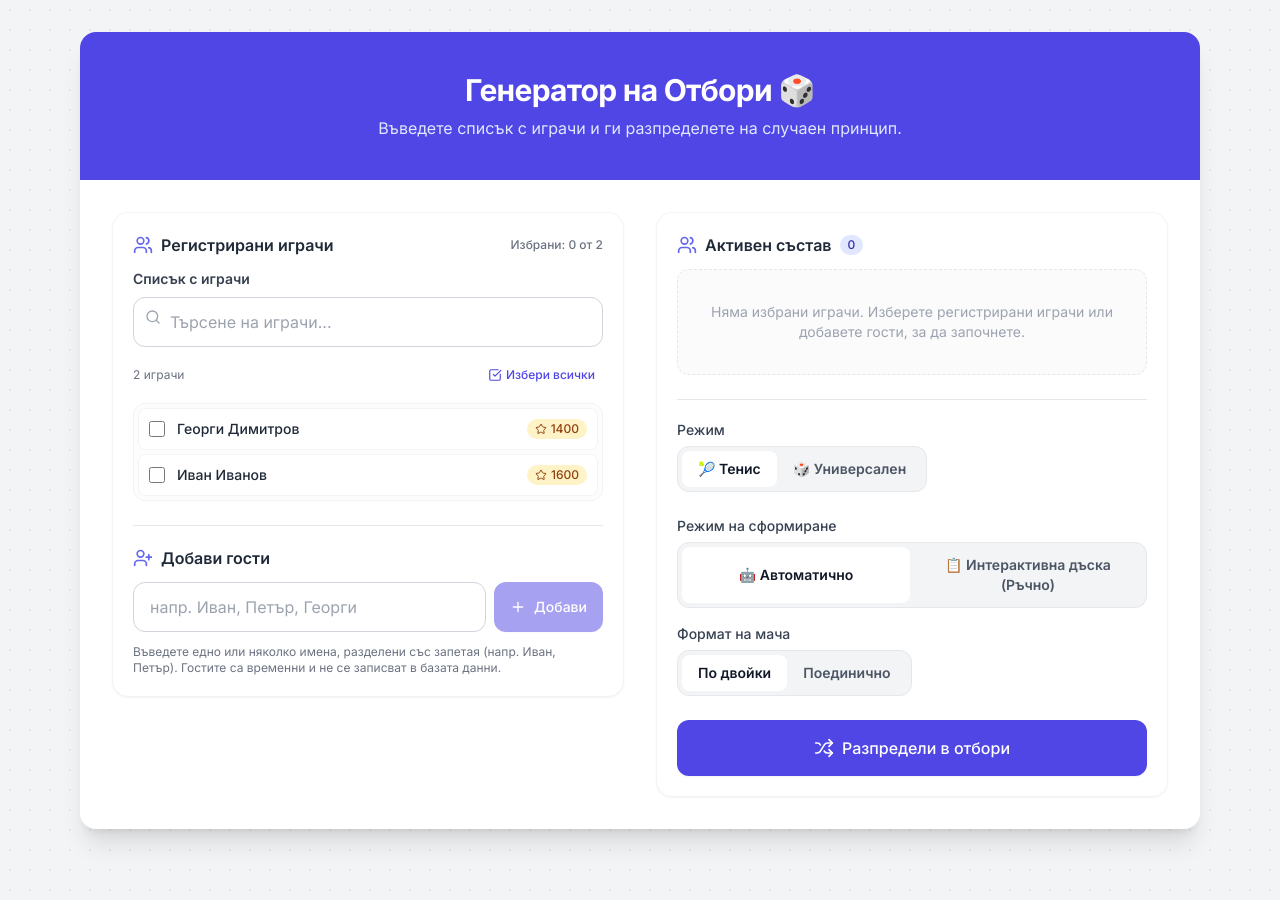
Test: GeneratorPage Integration Tests › Scenario 3 (UI Visibility): toggles mode between Tennis and Generic, updating controls appropriately
Expected: the button "По двойки" is shown, [682,655,787,691]
Expected: the button "Поединично" is shown, [787,655,906,691]
Toggle mode to Generic
Click the button "🎲 Универсален" at (849, 469), box [777,451,922,487]
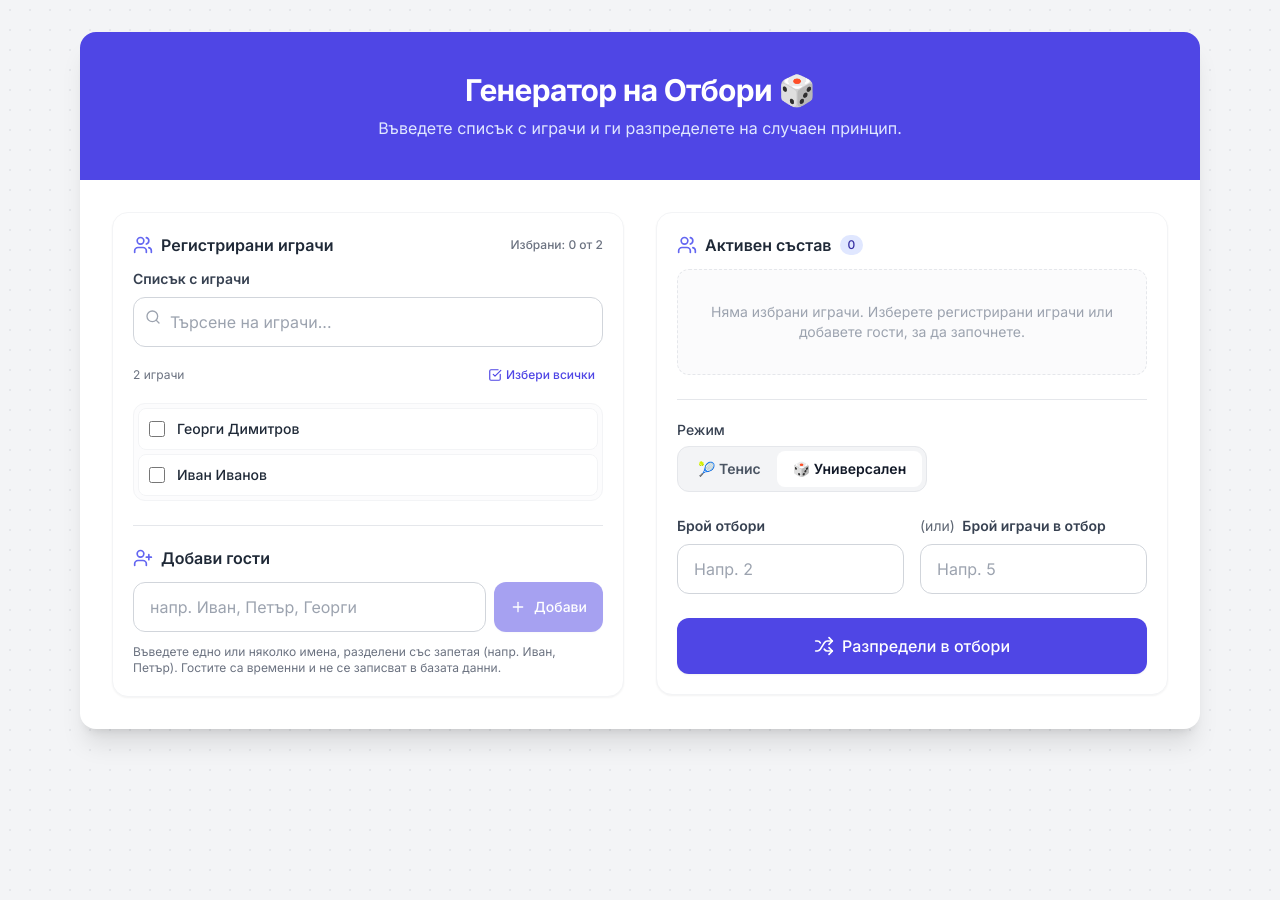
Now the number field labelled "Брой отбори" is shown, box [677,544,904,594]
Now the number field labelled "(или) Брой играчи в отбор" is shown, box [920,544,1147,594]
Now the button "По двойки" is gone
